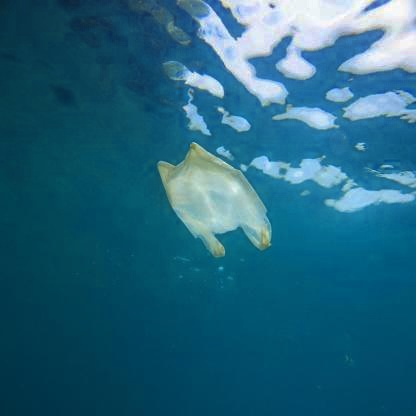pbag: (148, 135, 274, 264)
